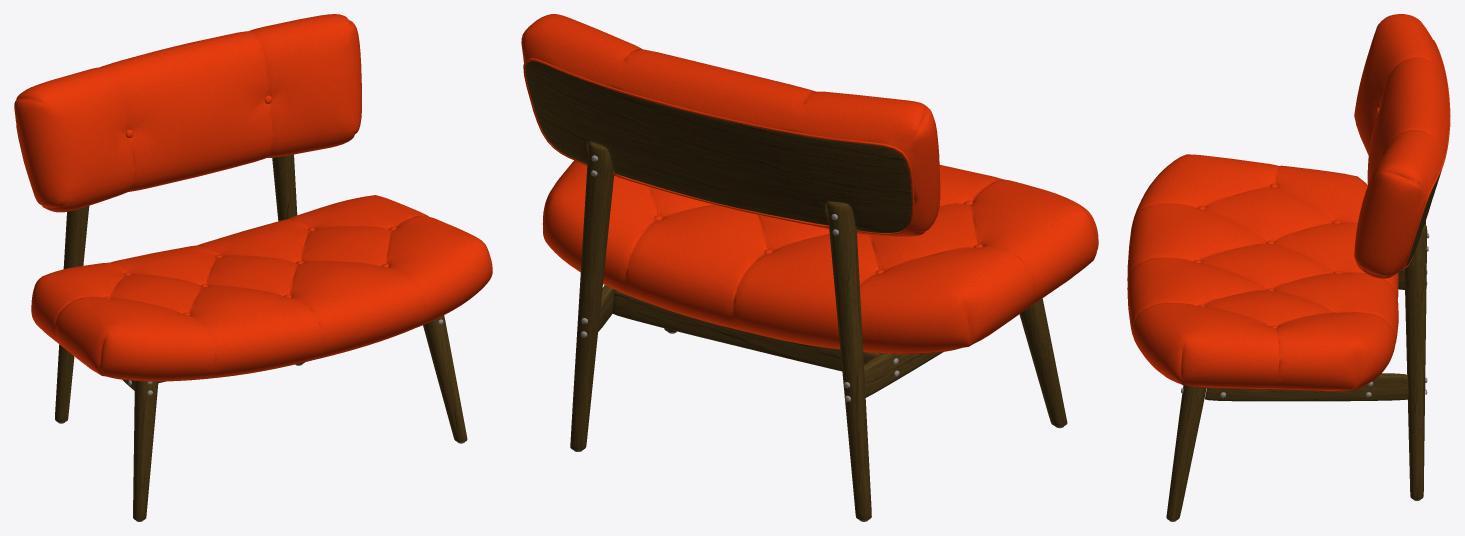
Rendered from lounge-chair.glb.
3 renders of one model, left to right at view 1: azimuth 30°, elevation 25°; view 2: azimuth 150°, elevation 25°; view 3: azimuth 270°, elevation 25°, orthographic. The views are drawn at different scales.
Parts seen in each view (by area): view 1: SheenChair_fabric, SheenChair_wood; view 2: SheenChair_fabric, SheenChair_wood; view 3: SheenChair_fabric, SheenChair_wood.
Boxes of the visible parts, x1=… form: SheenChair_fabric: x1=14, y1=14, x2=492, y2=381; SheenChair_wood: x1=55, y1=154, x2=467, y2=520; SheenChair_fabric: x1=521, y1=14, x2=1098, y2=354; SheenChair_wood: x1=525, y1=61, x2=1067, y2=520; SheenChair_fabric: x1=1127, y1=14, x2=1450, y2=391; SheenChair_wood: x1=1166, y1=170, x2=1441, y2=520.
Size of the model in its own units: 0.8266 by 0.6861 by 0.5702.
4 materials, 3 textured.
